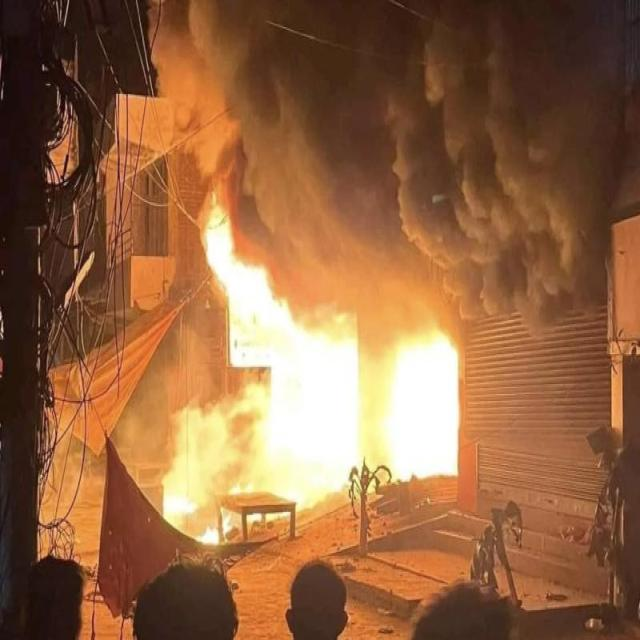fire: (271, 317, 359, 499), (202, 202, 290, 366), (162, 369, 270, 494), (392, 335, 460, 477), (358, 354, 392, 492), (232, 499, 305, 522)
